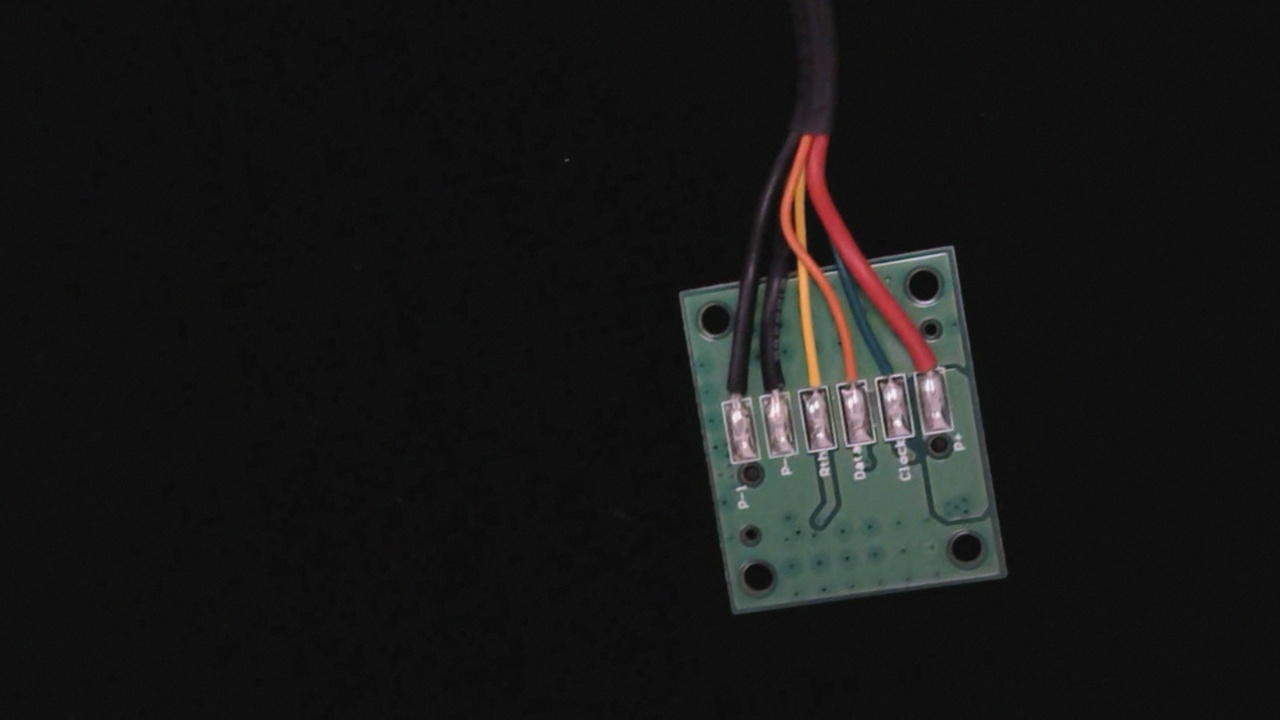Black: (750, 347, 793, 416)
Black1: (710, 348, 758, 423)
Green: (862, 334, 908, 398)
Orange: (831, 336, 870, 402)
Red: (903, 328, 946, 389)
Yellow: (788, 341, 831, 410)
